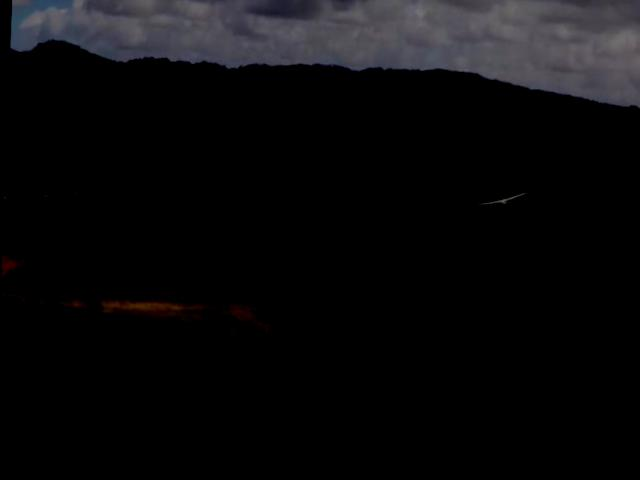iha: (471, 187, 531, 220)
